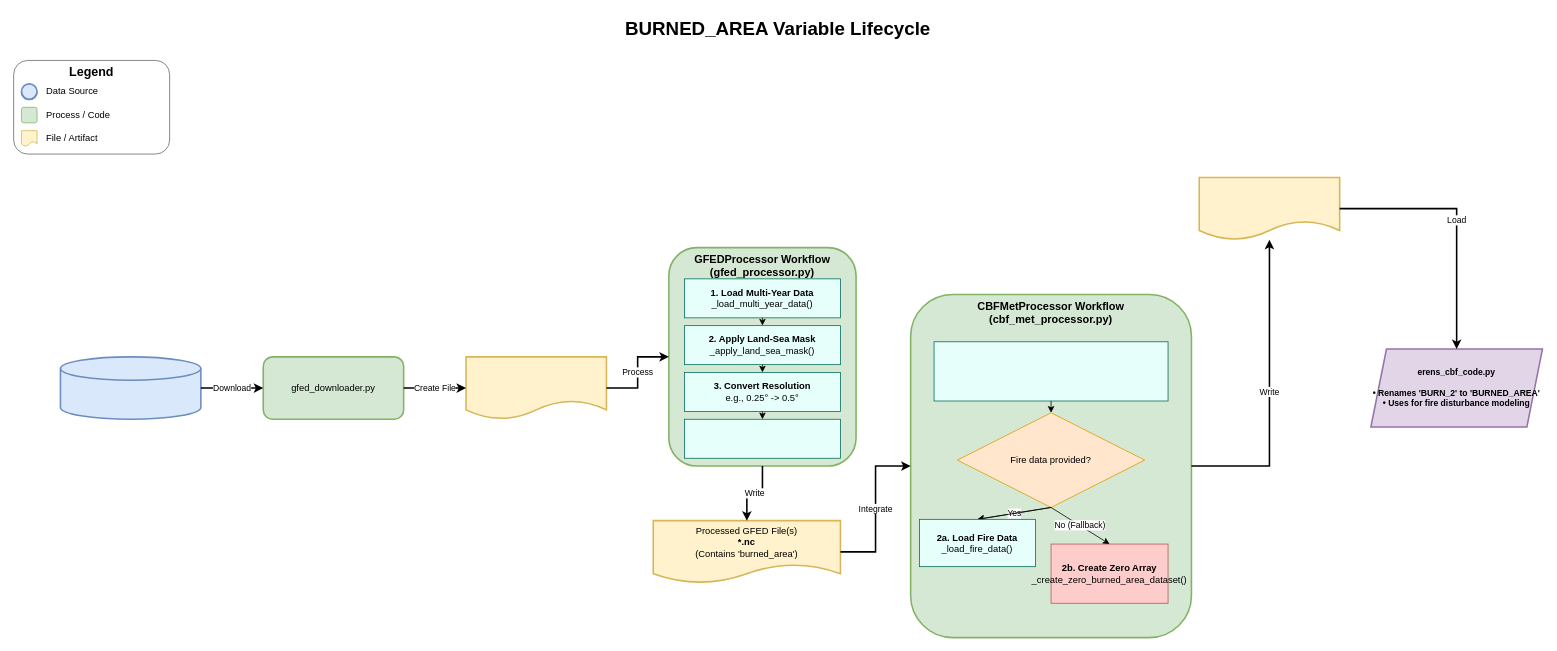
The diagram is 1557 pixels wide and 651 high, and some of its shapes have lost their labels. The centre of each missing label's shape, as x and y in pixels:
"1. Integrate External Data _integrate_external_data()" goes at (x=1050, y=371).
"4. Gap-Fill Post-2016 Data _fill_missing_years()" goes at (x=762, y=438).
"Downloaded HDF5 File(s) GFED4.1s_*.hdf5" goes at (x=536, y=388).
"Final CBF Met File AllMet05x05_LFmasked.nc (contains 'BURN_2')" goes at (x=1269, y=208).
"GFED4.1s Database Burned Area (HDF5 Files)" goes at (x=130, y=388).
